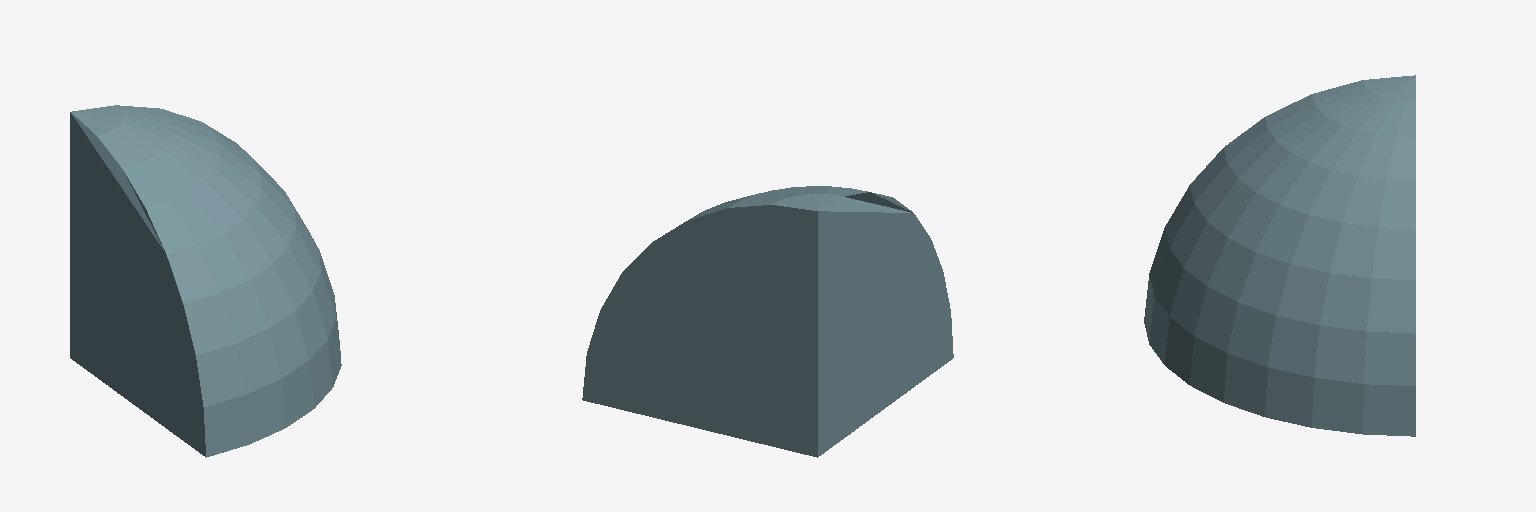
File: quarter_sphere_type4.obj
3 renders of one model, left to right at view 1: azimuth 30°, elevation 25°; view 2: azimuth 150°, elevation 25°; view 3: azimuth 270°, elevation 25°, orthographic.
Parts seen in each view (by area): view 1: quarter_sphere_type4; view 2: quarter_sphere_type4; view 3: quarter_sphere_type4.
Boxes of the visible parts, x1=… form: quarter_sphere_type4: x1=70, y1=105, x2=341, y2=457; quarter_sphere_type4: x1=582, y1=186, x2=953, y2=457; quarter_sphere_type4: x1=1144, y1=75, x2=1415, y2=436.
Bounding box in the file's own units: 2 × 2 × 2.